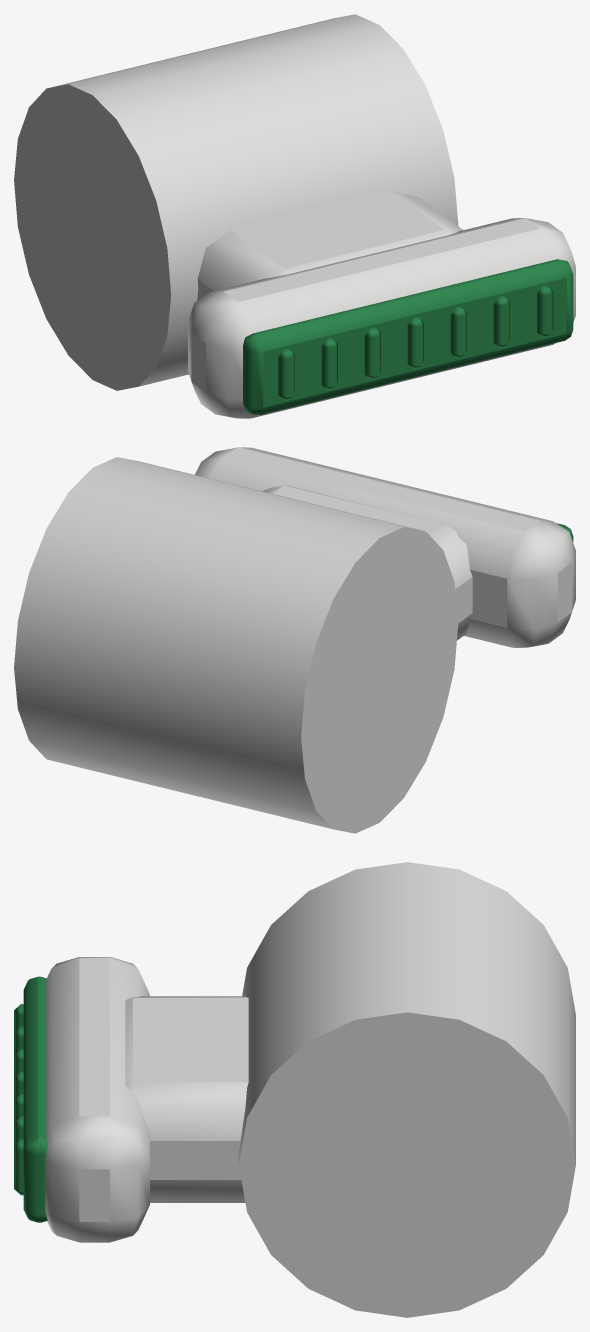
File: rcbo-toggle.glb
The picture shows the model from 3 angles, top to bottom: view 1: azimuth 30°, elevation 25°; view 2: azimuth 150°, elevation 25°; view 3: azimuth 270°, elevation 25°; orthographic projection. The views are drawn at different scales.
Parts seen in each view (by area): view 1: Satin ivory moulded polymer, Green moulded grip; view 2: Satin ivory moulded polymer; view 3: Satin ivory moulded polymer, Green moulded grip.
Boxes of the visible parts, x1,y1,x2,y2 form: Satin ivory moulded polymer: (14,14,575,418); Green moulded grip: (243,259,573,414); Satin ivory moulded polymer: (14,447,575,833); Satin ivory moulded polymer: (45,862,575,1317); Green moulded grip: (14,976,47,1222).
Size of the model in its own units: 0.0148 by 0.011 by 0.0183.
